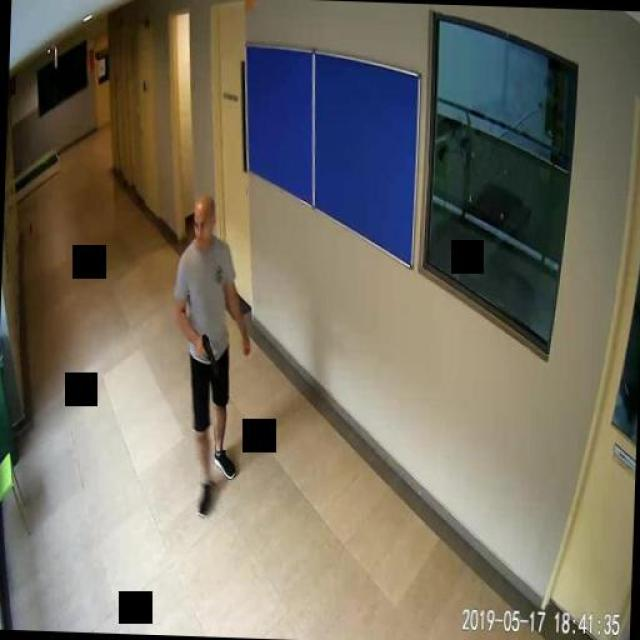gun: (195, 331, 217, 374)
